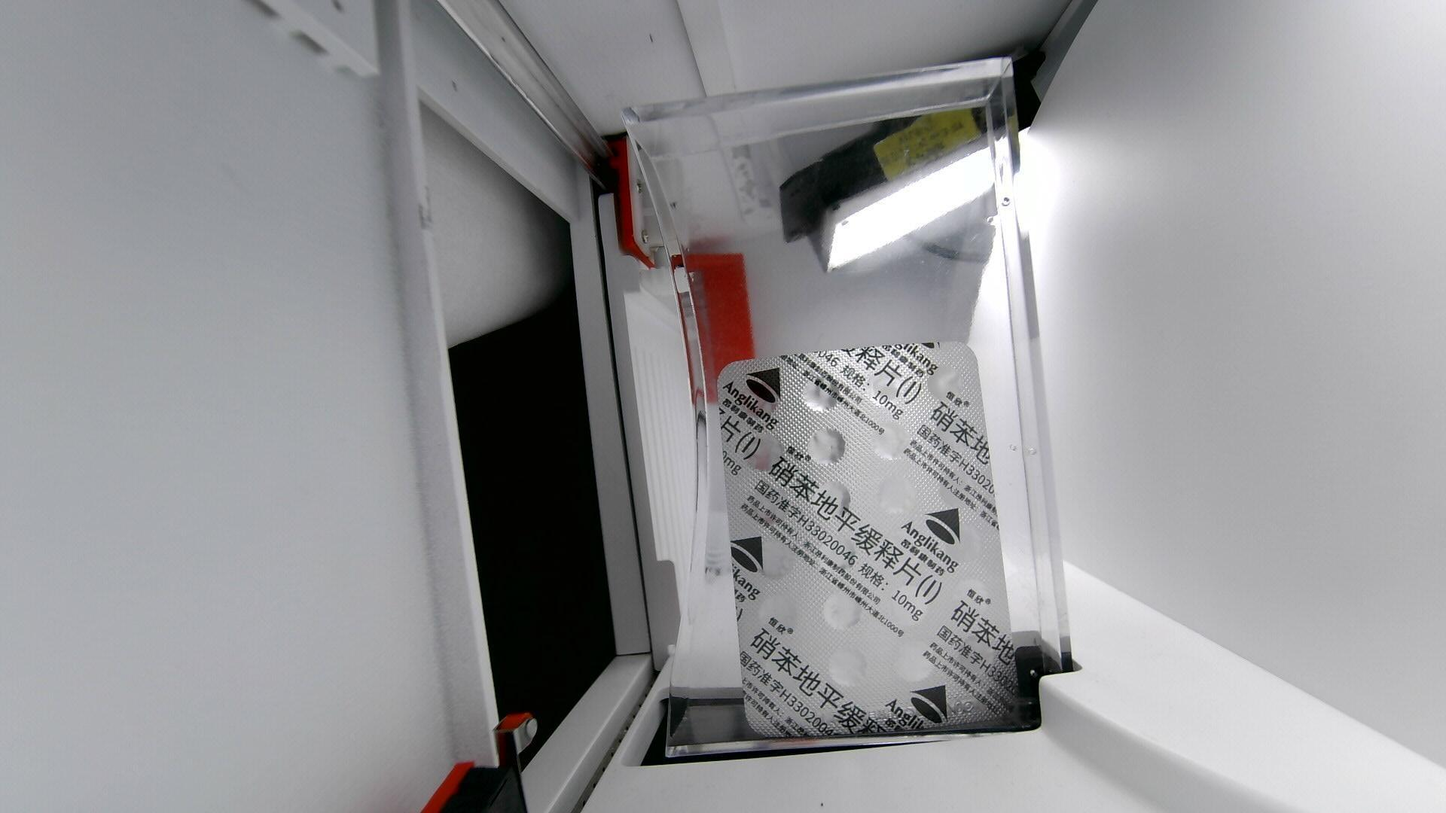Pill Back: (744, 534, 801, 580), (927, 363, 972, 412), (819, 642, 868, 686), (817, 589, 868, 631), (735, 431, 787, 471), (940, 473, 988, 516), (879, 534, 924, 577), (955, 639, 1001, 681), (865, 419, 911, 459), (755, 599, 801, 638), (799, 427, 847, 464), (731, 381, 778, 418), (874, 480, 921, 517), (769, 656, 809, 699), (740, 483, 786, 520), (888, 642, 935, 678), (950, 578, 992, 618), (817, 534, 858, 574), (932, 421, 981, 454), (807, 480, 852, 515), (887, 587, 929, 623), (949, 533, 990, 568), (801, 377, 843, 410), (873, 371, 911, 406)
